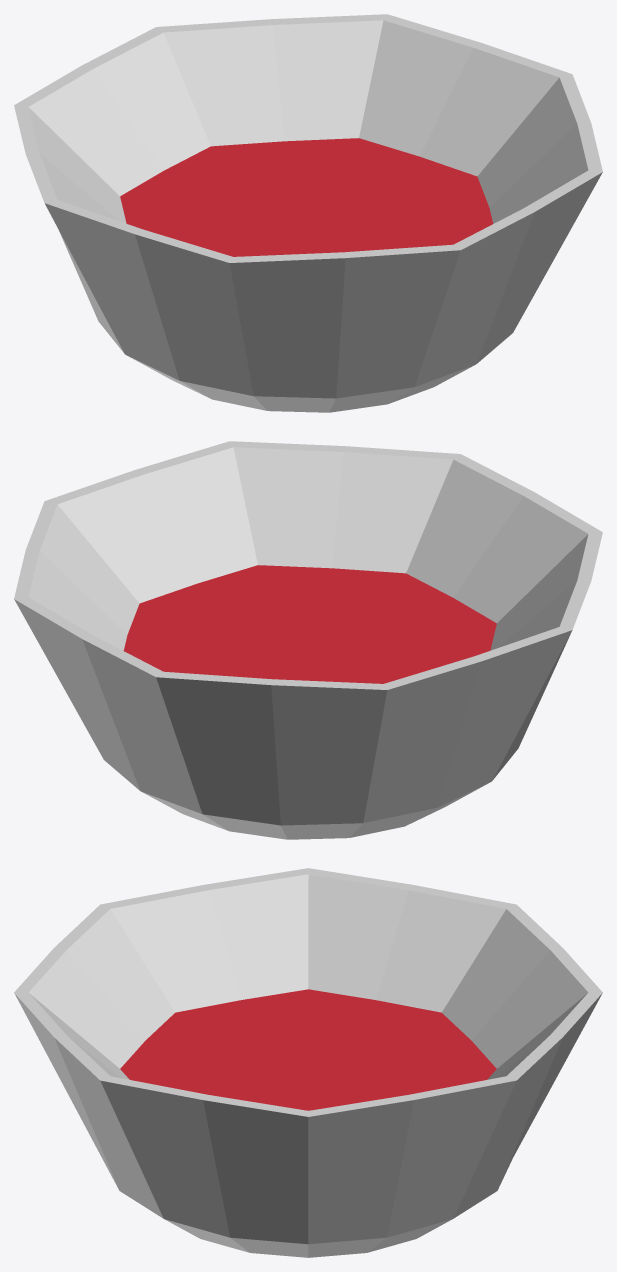
Rendered from Sauce.fbx.
3 renders of one model, top to bottom at view 1: azimuth 30°, elevation 25°; view 2: azimuth 150°, elevation 25°; view 3: azimuth 270°, elevation 25°, orthographic. The views are drawn at different scales.
Parts seen in each view (by area): view 1: Cylinder.005; view 2: Cylinder.005; view 3: Cylinder.005.
Part boxes in pixels (<box>): Cylinder.005: <box>14,14,602,412</box>; Cylinder.005: <box>14,441,602,839</box>; Cylinder.005: <box>14,868,602,1257</box>.
Bounding box in the file's own units: 116 × 43.51 × 116.
